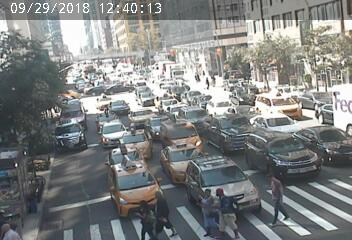car: (187, 162, 251, 205), (106, 170, 169, 209), (249, 135, 311, 172), (302, 120, 352, 156), (201, 116, 251, 147), (114, 128, 157, 159), (250, 111, 300, 135), (159, 146, 197, 173), (56, 119, 85, 153), (259, 94, 300, 117), (163, 122, 203, 145), (103, 149, 146, 165), (96, 115, 123, 140), (299, 90, 327, 110), (134, 83, 157, 105), (61, 100, 85, 121), (109, 100, 131, 117), (132, 107, 154, 124), (183, 109, 208, 123), (168, 100, 189, 116), (106, 84, 131, 95), (150, 115, 171, 128), (158, 95, 176, 108), (95, 94, 108, 109), (84, 84, 102, 92), (197, 97, 213, 105), (182, 90, 197, 98), (161, 82, 174, 91), (172, 87, 185, 96)
